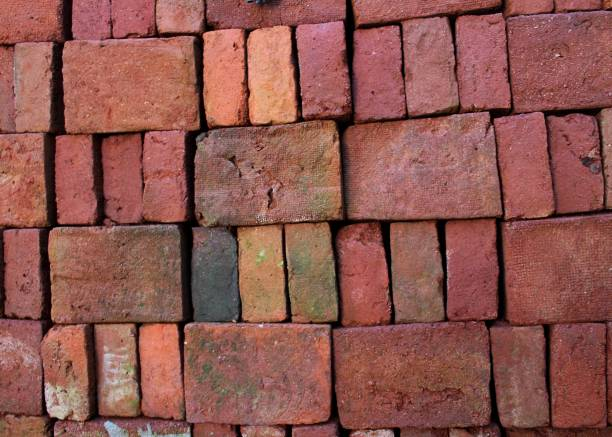brick: (346, 112, 498, 219), (333, 324, 489, 428), (193, 121, 340, 227), (186, 322, 333, 424), (61, 34, 197, 132), (50, 226, 181, 324), (503, 214, 612, 324), (511, 11, 611, 109), (550, 322, 603, 431), (492, 324, 546, 426), (549, 113, 603, 213), (393, 220, 445, 320), (288, 224, 339, 322), (499, 112, 548, 214), (339, 224, 389, 323), (449, 220, 498, 320), (297, 22, 348, 118), (456, 14, 507, 108), (406, 13, 453, 115), (352, 24, 403, 116), (140, 132, 188, 224), (191, 229, 238, 322), (247, 27, 291, 124), (43, 327, 87, 420), (1, 133, 45, 226), (141, 323, 181, 420), (241, 228, 282, 320), (1, 318, 39, 417), (12, 42, 53, 131), (98, 323, 136, 417), (101, 134, 140, 221), (201, 36, 240, 123), (56, 137, 94, 225), (6, 228, 43, 318)
